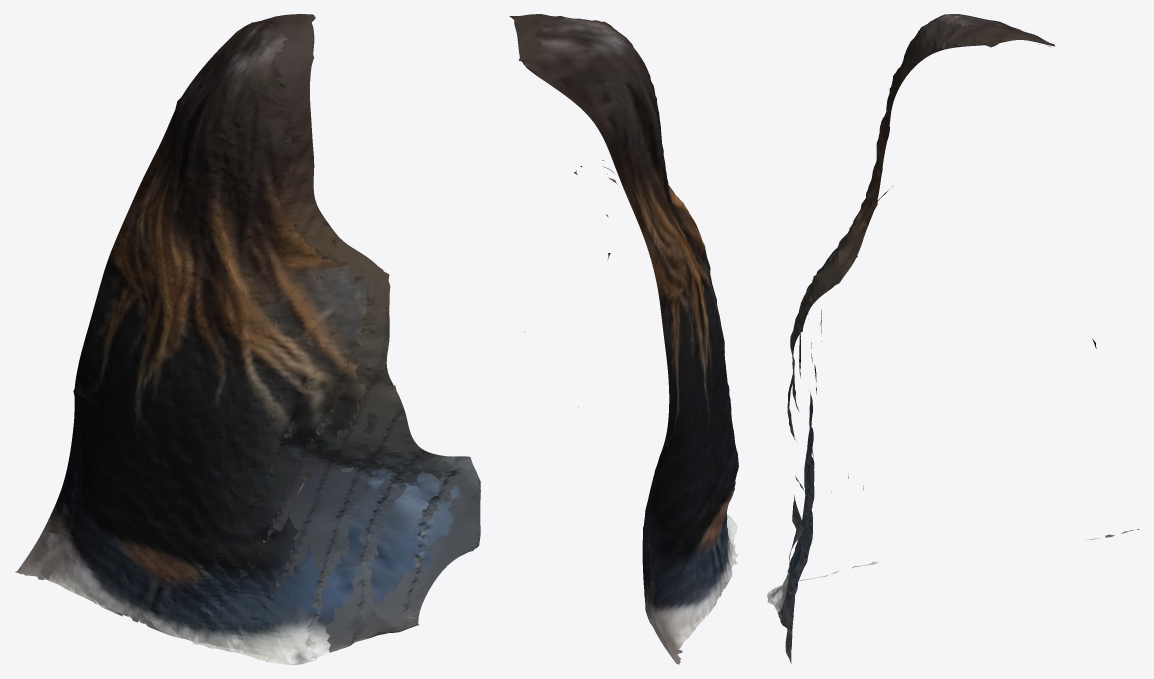
The picture shows the model from 3 angles, left to right: view 1: azimuth 30°, elevation 25°; view 2: azimuth 150°, elevation 25°; view 3: azimuth 270°, elevation 25°; orthographic projection. The views are drawn at different scales.
Size of the model in its own units: 0.4482 by 0.7569 by 0.4172.
1 material, 1 textured.
